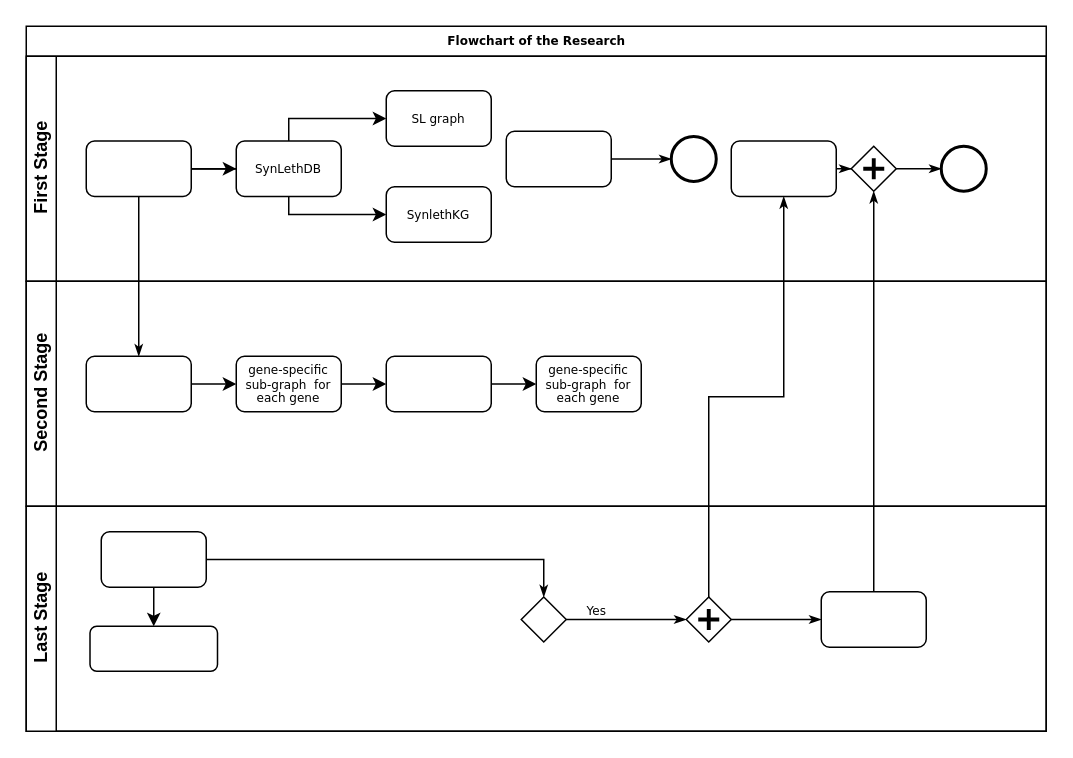
This 1073x758 diagram has some shape labels left out. Here are the shapes that lost their labels. From the top down, the centre of each, then its label:
At pixel 138 168: "Data Preparation".
At pixel 138 383: "Model Building".
At pixel 438 383: "GNN message passing".
At pixel 153 558: "Model Evaluation".
At pixel 153 648: "Metrics: AUC, AUPR, F1".
